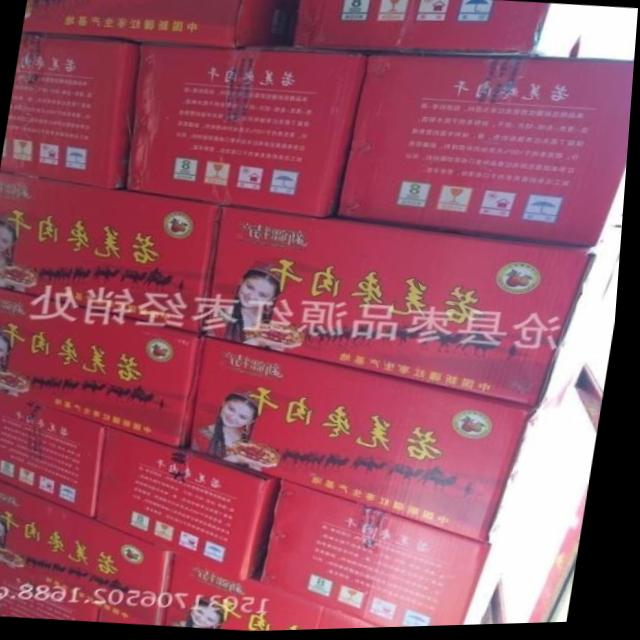box: (204, 208, 626, 412), (193, 336, 579, 545), (340, 54, 635, 253), (133, 46, 374, 220), (270, 481, 547, 630), (0, 173, 226, 333), (0, 286, 210, 448), (99, 428, 288, 583), (0, 482, 180, 624), (294, 0, 638, 64), (3, 34, 139, 191), (170, 556, 387, 633), (23, 0, 300, 51), (0, 393, 112, 519), (0, 561, 113, 620), (106, 603, 167, 625)
